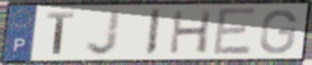E: (211, 6, 259, 58)
G: (258, 7, 299, 55)
H: (167, 9, 214, 56)
I: (143, 7, 163, 57)
J: (84, 9, 123, 57)
T: (45, 11, 76, 56)
